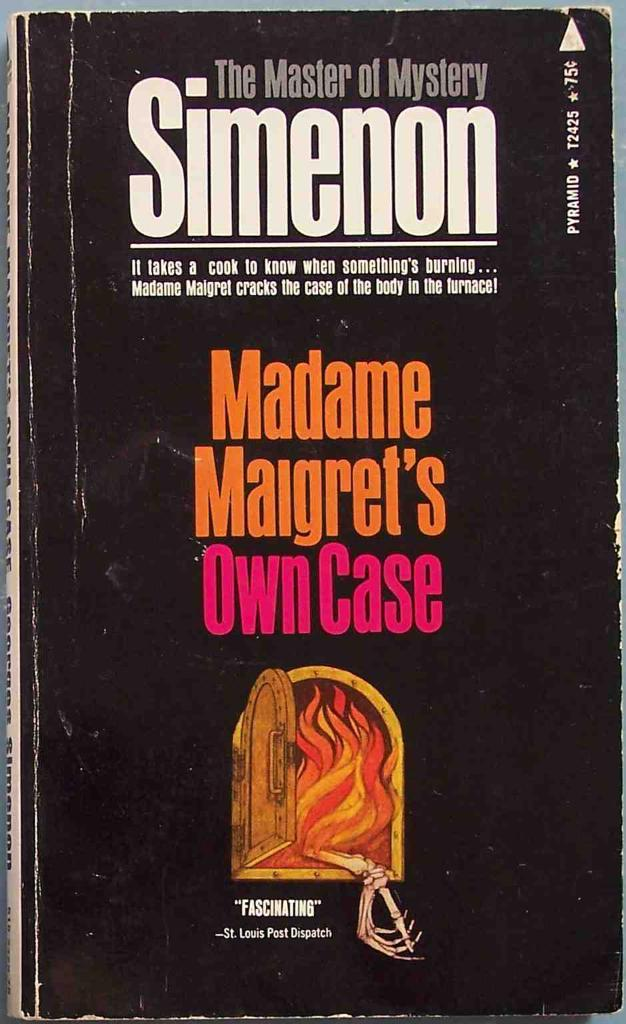book: (0, 8, 625, 1024)
